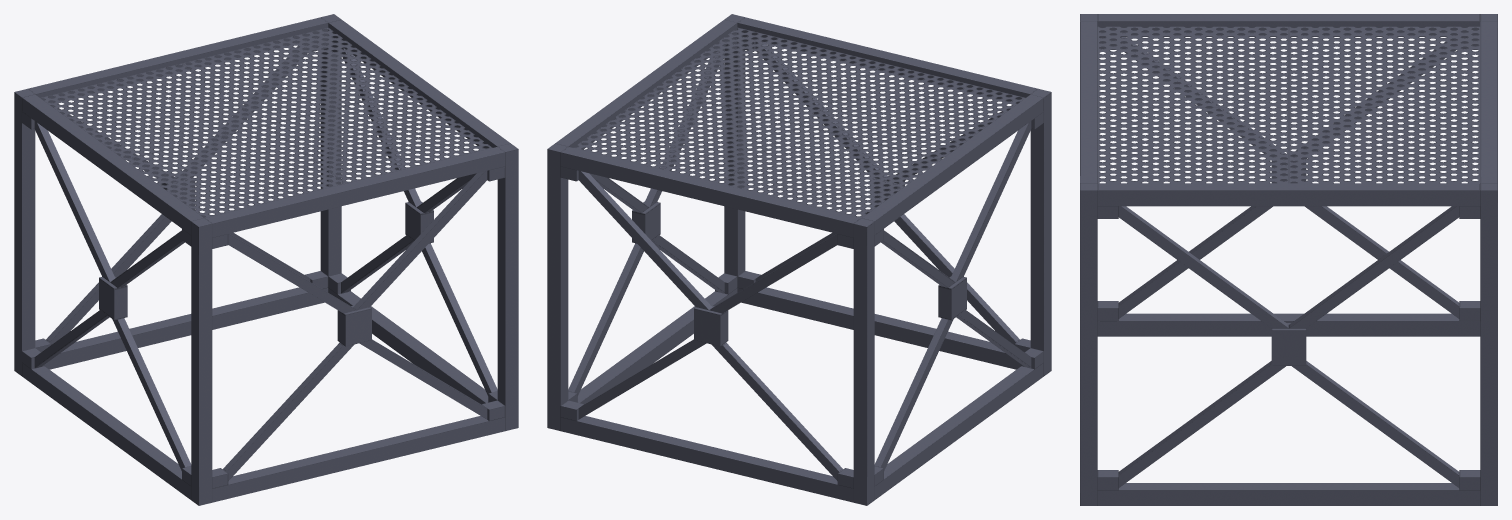
Rendered from Platerform_Metal_08.FBX.
The picture shows the model from 3 angles, left to right: view 1: azimuth 30°, elevation 25°; view 2: azimuth 150°, elevation 25°; view 3: azimuth 270°, elevation 25°; orthographic projection. The views are drawn at different scales.
Visible parts, largest first — view 1: Platerform_Metal_08; view 2: Platerform_Metal_08; view 3: Platerform_Metal_08.
Part boxes in pixels (x1,y1,x2,y2): Platerform_Metal_08: (14, 14, 518, 505); Platerform_Metal_08: (547, 14, 1051, 505); Platerform_Metal_08: (1080, 14, 1497, 505).
Bounding box in the file's own units: 6 × 5 × 6.
Materials: 3 (3 with a texture image).
